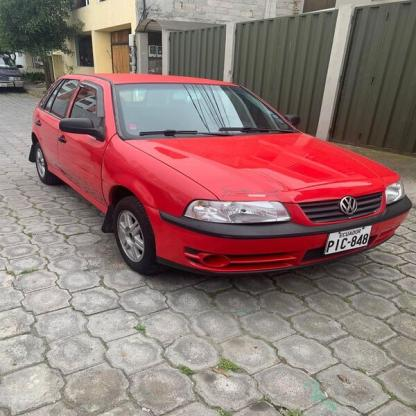Placa: (323, 227, 376, 261)
